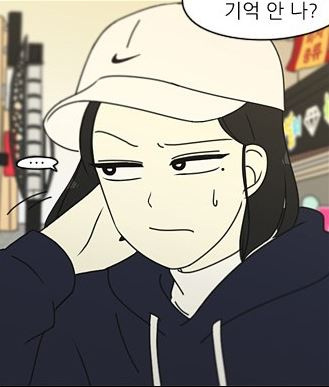hat: (43, 3, 286, 118)
